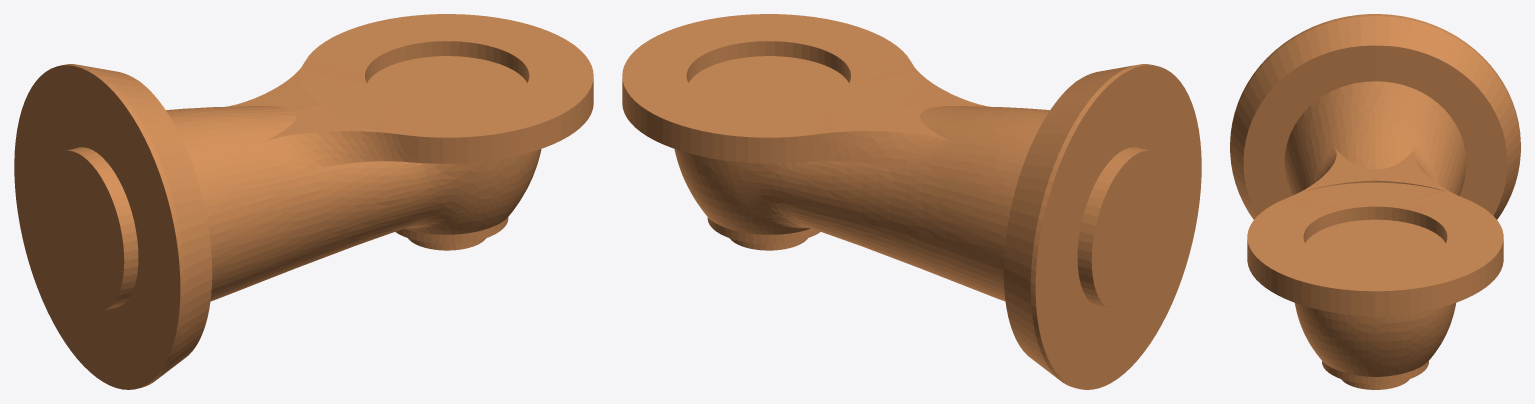
3 renders of one model, left to right at view 1: azimuth 30°, elevation 25°; view 2: azimuth 150°, elevation 25°; view 3: azimuth 270°, elevation 25°, orthographic. The views are drawn at different scales.
Visible parts, largest first — view 1: /Link_4/Link_4-mesh/0; view 2: /Link_4/Link_4-mesh/0; view 3: /Link_4/Link_4-mesh/0.
Boxes of the visible parts, <box> form: /Link_4/Link_4-mesh/0: <box>14,14,593,389</box>; /Link_4/Link_4-mesh/0: <box>622,14,1201,389</box>; /Link_4/Link_4-mesh/0: <box>1230,14,1520,389</box>.
Size of the model in its own units: 0.3447 by 0.2021 by 0.202.
